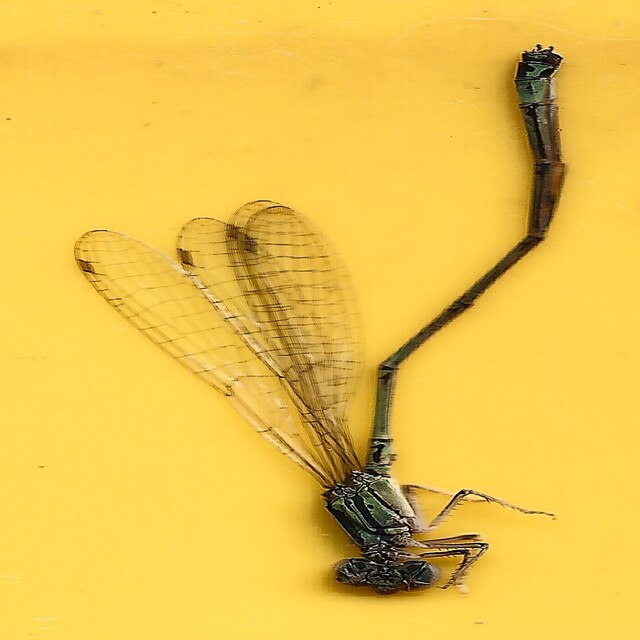Odonata: (75, 42, 565, 598)
